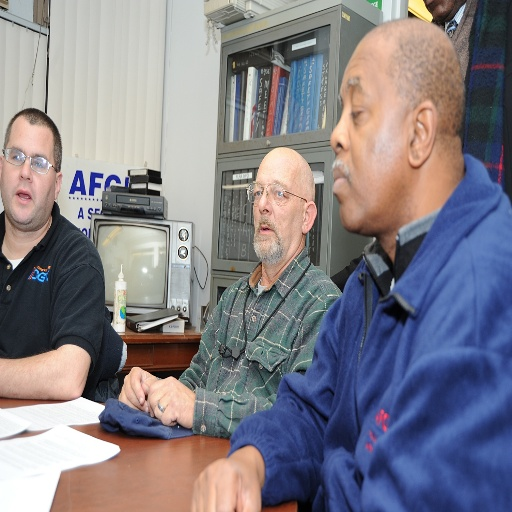hand: (184, 440, 272, 510), (146, 375, 197, 432), (115, 365, 159, 415)
